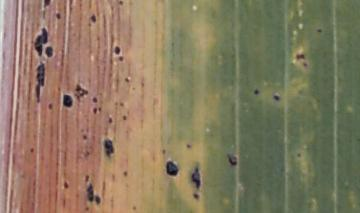tarspot: (33, 26, 48, 56), (35, 63, 44, 103), (164, 159, 179, 176), (191, 167, 202, 189), (75, 84, 88, 101), (103, 138, 114, 156), (226, 153, 238, 166), (62, 94, 73, 108), (86, 183, 94, 202), (45, 45, 54, 57), (94, 194, 102, 206), (89, 13, 97, 23), (54, 11, 62, 20), (252, 87, 260, 96), (272, 93, 281, 101), (294, 53, 306, 59), (82, 172, 89, 182), (63, 180, 70, 189), (192, 192, 199, 200), (295, 151, 302, 159), (123, 76, 131, 83), (43, 1, 52, 7), (122, 169, 128, 177), (161, 147, 167, 155), (115, 46, 120, 55), (92, 106, 97, 115), (185, 143, 192, 149), (92, 96, 98, 103), (47, 102, 53, 109), (132, 204, 138, 211), (118, 101, 125, 107), (122, 113, 127, 121), (82, 134, 88, 140), (107, 117, 113, 123), (118, 1, 124, 7), (85, 206, 91, 212), (303, 61, 308, 68), (97, 105, 102, 112), (316, 28, 322, 33), (29, 148, 35, 153), (119, 56, 123, 62)
